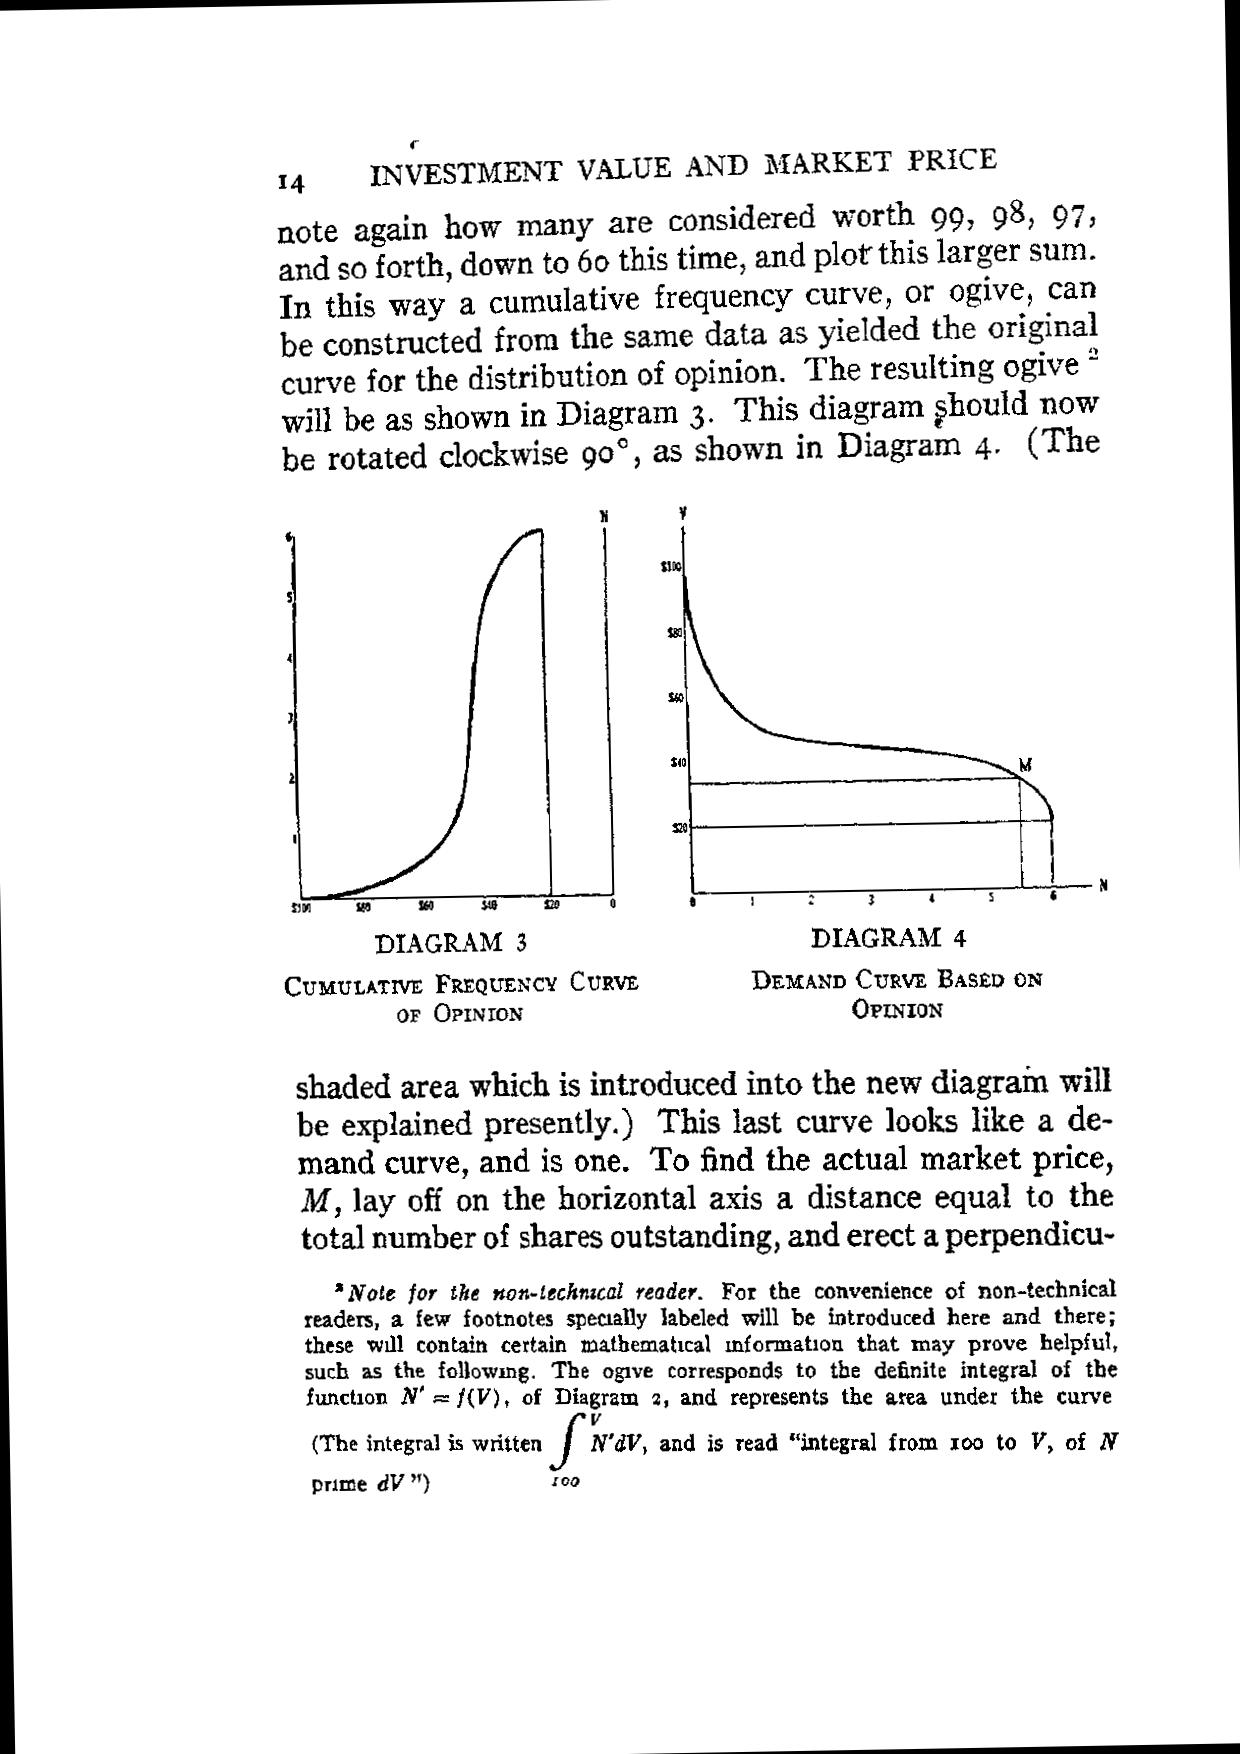content: (268, 209, 1107, 1504)
content_chapter: (365, 144, 998, 189)
content_pagenumber: (272, 166, 305, 195)
